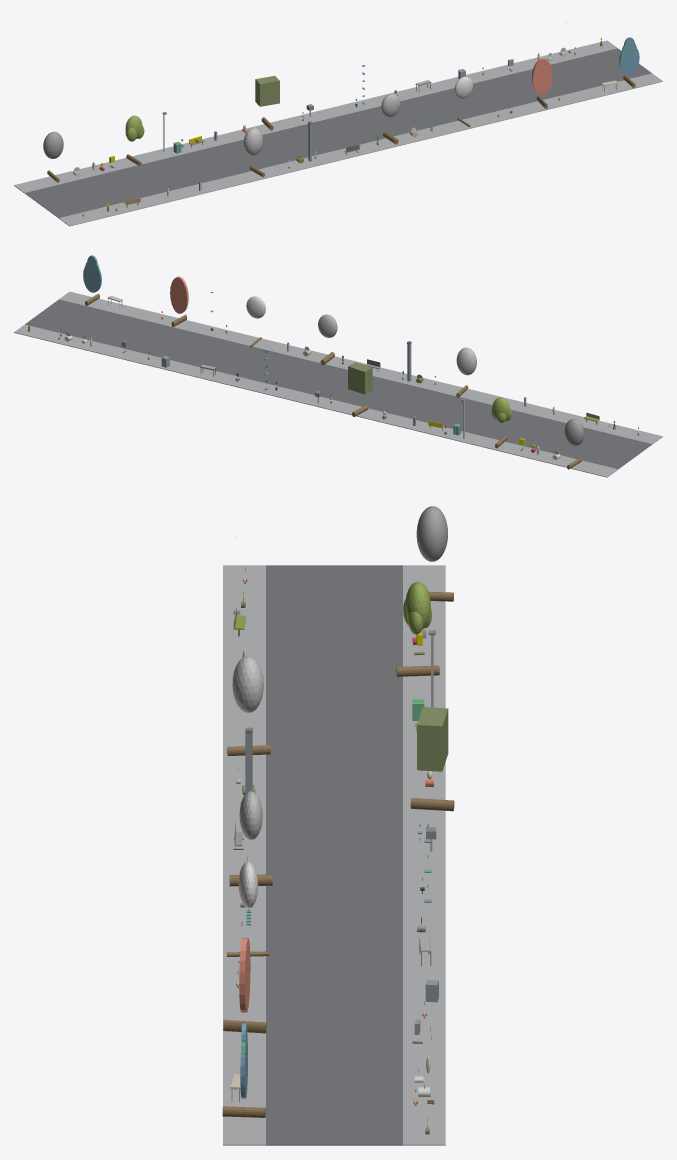
3 renders of one model, top to bottom at view 1: azimuth 30°, elevation 25°; view 2: azimuth 150°, elevation 25°; view 3: azimuth 270°, elevation 25°, orthographic. The views are drawn at different scales.
Visible parts, largest first — view 1: road_slab, sidewalk_left, sidewalk_right, inst_0021, inst_0024, inst_0025, inst_0020, inst_0018, inst_0019, inst_0022, inst_0023; view 2: road_slab, sidewalk_right, sidewalk_left, inst_0021, inst_0024, inst_0025, inst_0020, inst_0018, inst_0019, inst_0022, inst_0023; view 3: road_slab, sidewalk_right, sidewalk_left, inst_0021, inst_0020, inst_0018, inst_0019, inst_0024, inst_0022, inst_0025, inst_0023.
Boxes of the visible parts, box(x1,y1,x2,y2) form: road_slab: box(24, 48, 651, 218); sidewalk_left: box(59, 73, 662, 226); sidewalk_right: box(14, 40, 617, 193); inst_0021: box(255, 75, 279, 130); inst_0024: box(532, 58, 552, 109); inst_0025: box(619, 37, 639, 88); inst_0020: box(243, 128, 264, 177); inst_0018: box(43, 131, 63, 182); inst_0019: box(125, 115, 144, 166); inst_0022: box(381, 93, 400, 144); inst_0023: box(454, 76, 472, 127); road_slab: box(25, 299, 652, 469); sidewalk_right: box(14, 324, 617, 477); sidewalk_left: box(59, 291, 662, 444); inst_0021: box(348, 362, 372, 416); inst_0024: box(170, 276, 188, 326); inst_0025: box(83, 255, 101, 305); inst_0020: box(456, 347, 476, 397); inst_0018: box(564, 418, 584, 469); inst_0019: box(491, 397, 511, 448); inst_0022: box(318, 314, 337, 365); inst_0023: box(246, 296, 265, 347); road_slab: box(266, 565, 402, 1145); sidewalk_right: box(403, 565, 445, 1145); sidewalk_left: box(223, 565, 265, 1145); inst_0021: box(410, 707, 454, 811); inst_0020: box(227, 656, 270, 755); inst_0018: box(416, 506, 453, 601); inst_0019: box(396, 581, 439, 676); inst_0024: box(223, 938, 266, 1033); inst_0022: box(229, 791, 272, 886); inst_0025: box(222, 1023, 265, 1117); inst_0023: box(227, 861, 269, 956).
Size of the model in its own units: 80 by 6.08 by 13.53.
